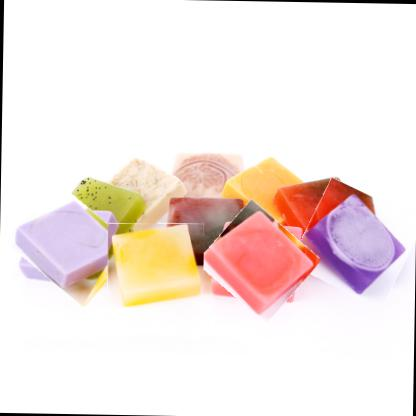soap: (297, 185, 415, 301), (10, 192, 129, 296), (202, 208, 313, 314), (107, 222, 204, 309)
